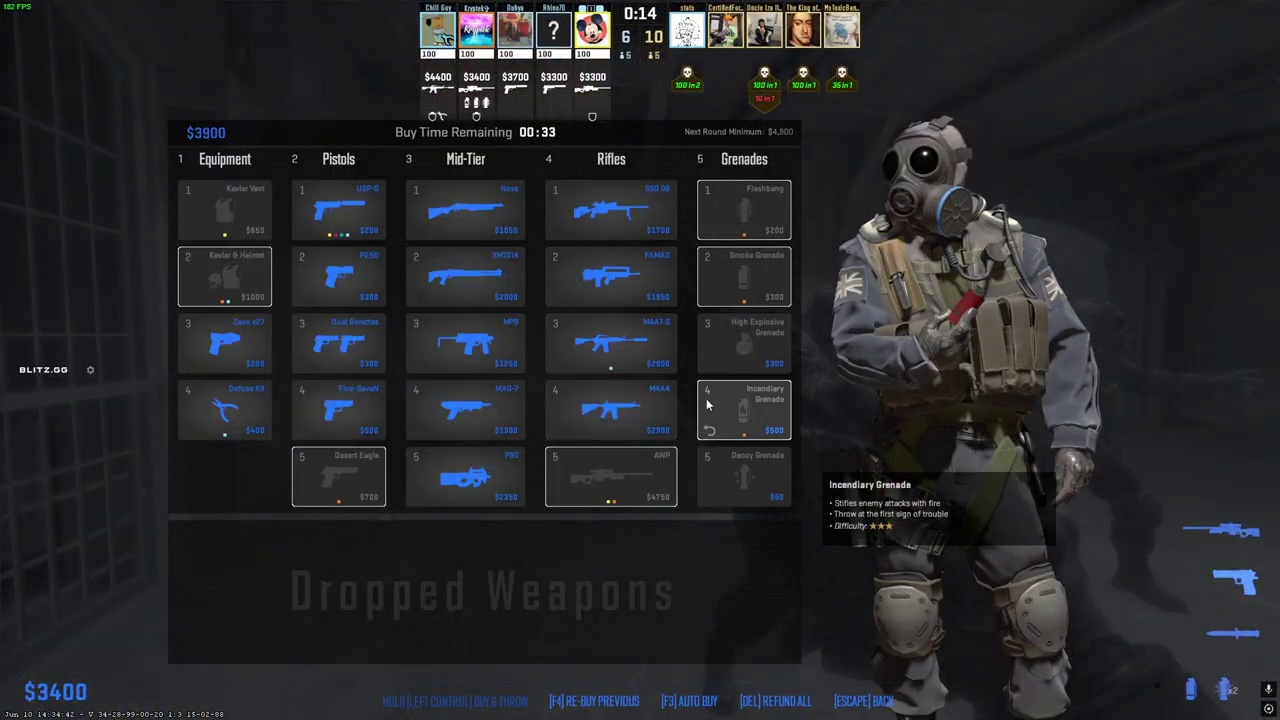CT: (855, 121, 1074, 720)
